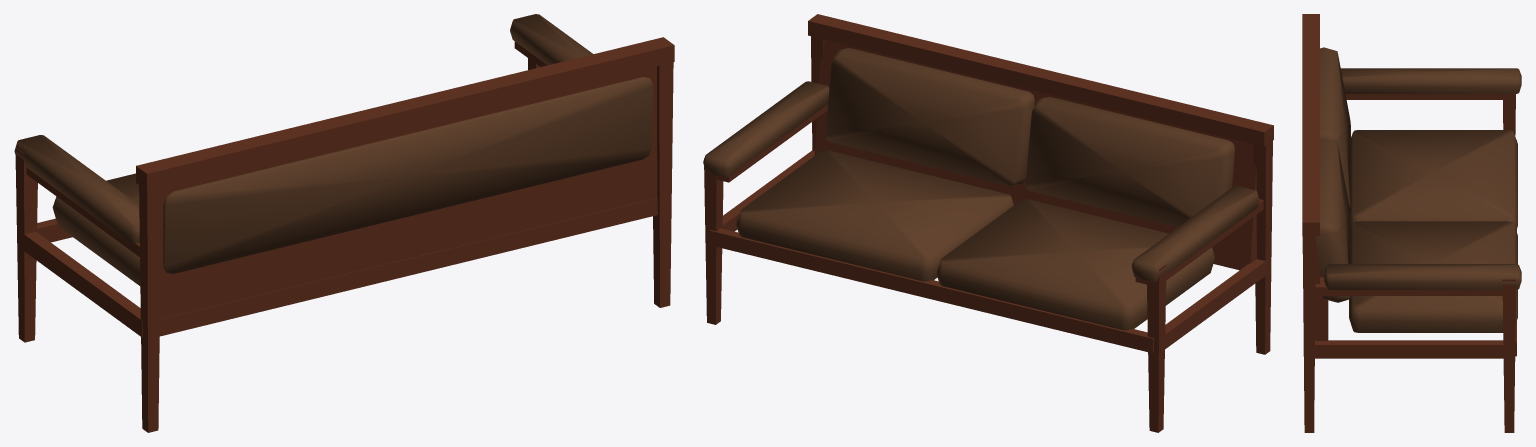
File: parametric-sofa-2nd-pub.glb
3 views of the same model, side by side, from view 1: azimuth 30°, elevation 25°; view 2: azimuth 150°, elevation 25°; view 3: azimuth 270°, elevation 25° (orthographic). The views are drawn at different scales.
Visible parts, largest first — view 1: parametric-sofa-2nd-pub; view 2: parametric-sofa-2nd-pub; view 3: parametric-sofa-2nd-pub.
Part boxes in pixels (x1,y1,x2,y2): parametric-sofa-2nd-pub: (14, 14, 674, 432); parametric-sofa-2nd-pub: (703, 14, 1273, 432); parametric-sofa-2nd-pub: (1302, 14, 1521, 432).
Size of the model in its own units: 1.8 by 0.85 by 0.8.
